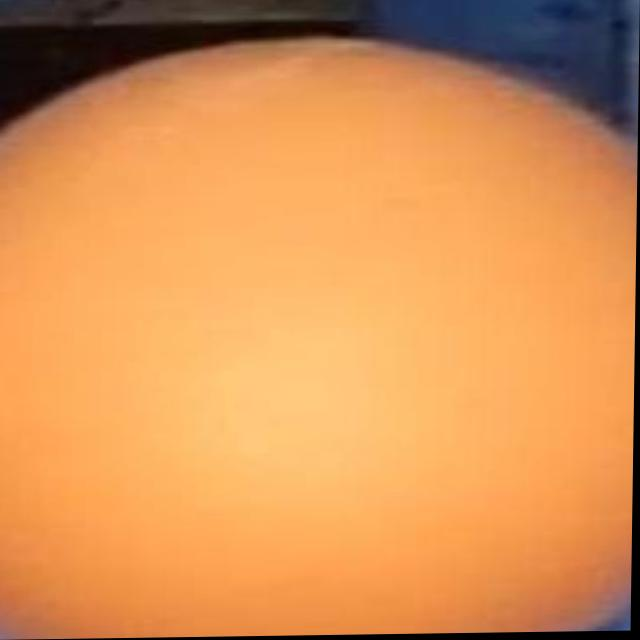fresh: (0, 58, 639, 640)
